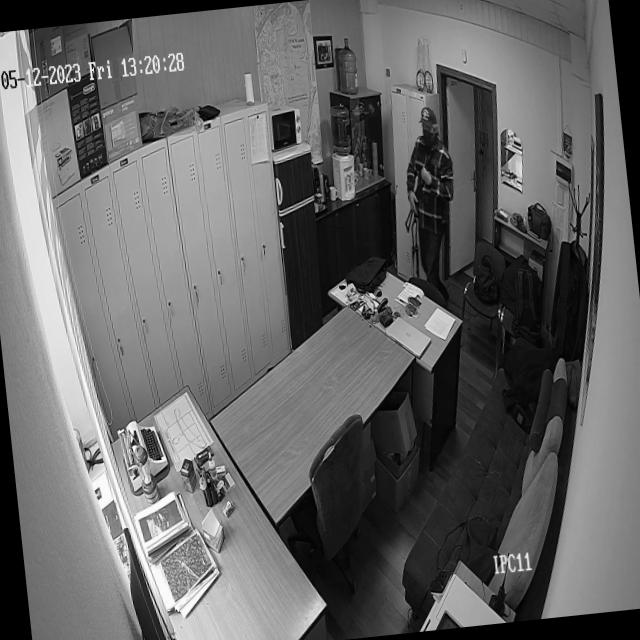gun: (396, 130, 453, 233)
person with a gun: (392, 100, 464, 276)
